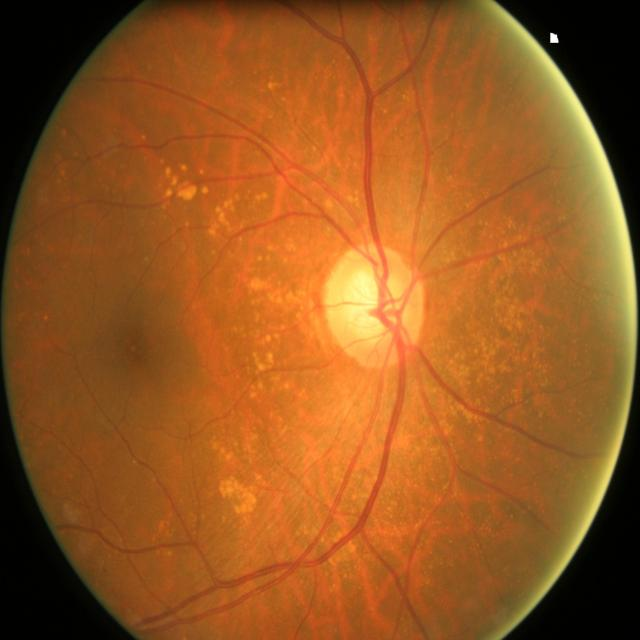OC: (339, 268, 404, 341)
OD: (323, 243, 426, 364)
